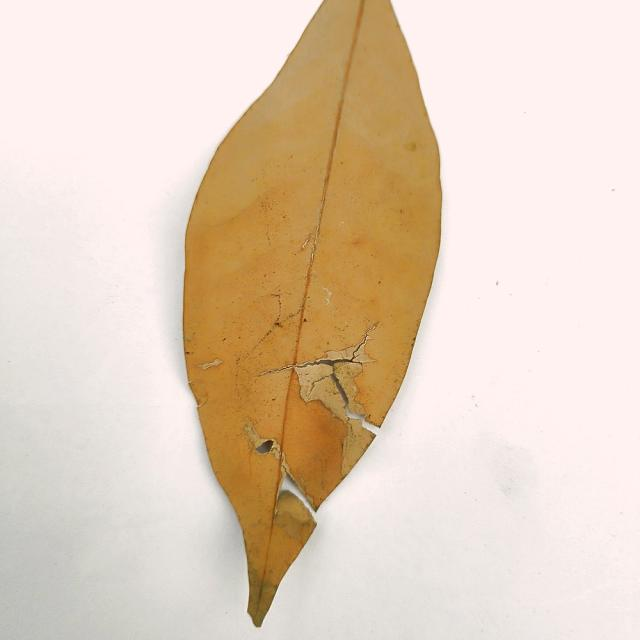Dry_Leaf-Lychee: (181, 0, 444, 628)
